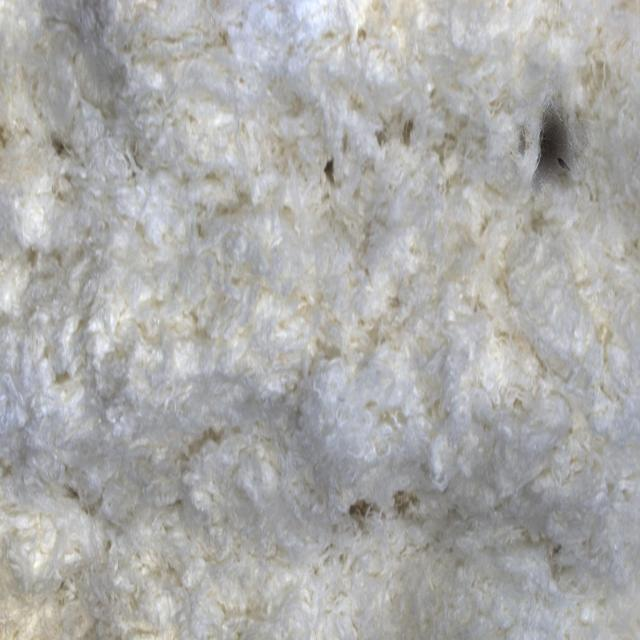dust: (496, 65, 620, 220)
